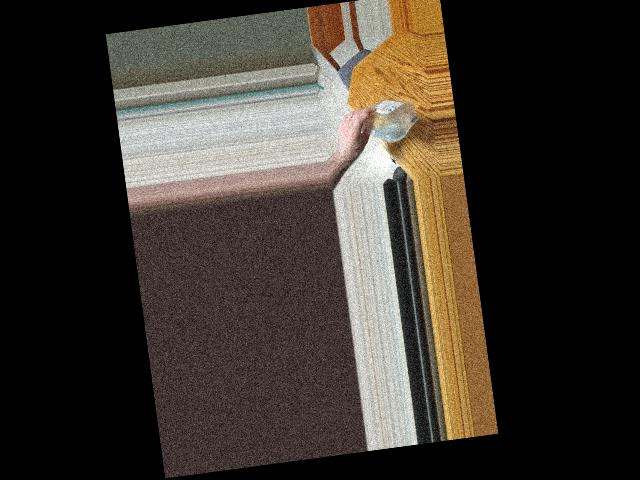cheese: (348, 98, 416, 142)
